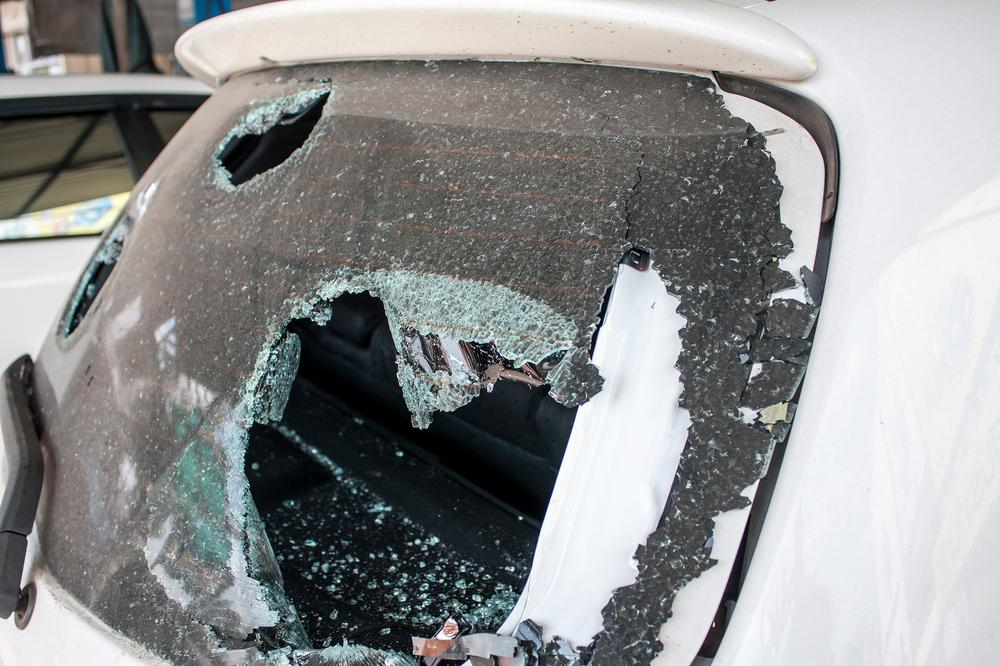glass shatter: (39, 62, 810, 666)
